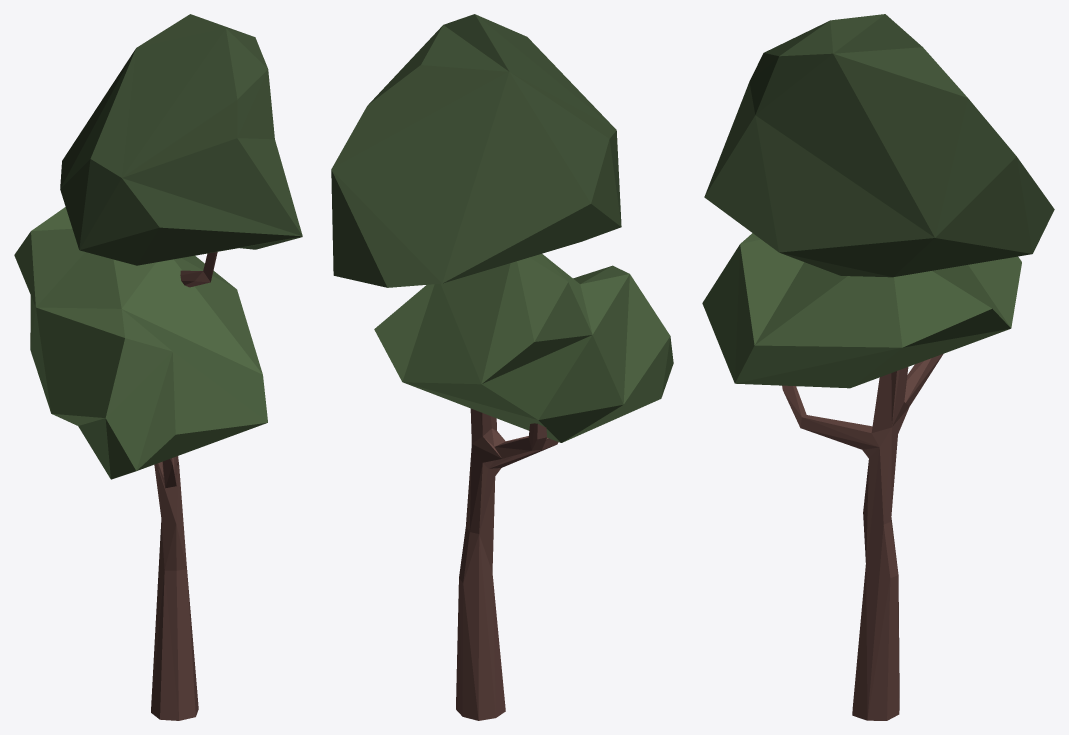
The model's file is CommonTree_3_lod.glb.
3 views of the same model, side by side, from view 1: azimuth 30°, elevation 25°; view 2: azimuth 150°, elevation 25°; view 3: azimuth 270°, elevation 25° (orthographic). The views are drawn at different scales.
Parts seen in each view (by area): view 1: CommonTree_3; view 2: CommonTree_3; view 3: CommonTree_3.
Boxes of the visible parts, bbox=[...] form: CommonTree_3: bbox=[14, 14, 302, 720]; CommonTree_3: bbox=[331, 14, 673, 720]; CommonTree_3: bbox=[702, 14, 1054, 720].
Bounding box in the file's own units: 1.27 × 3.45 × 1.56.
